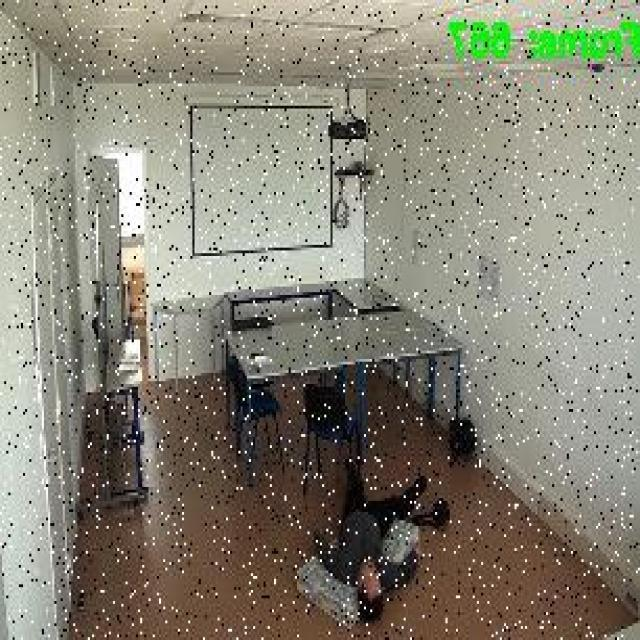fall: (310, 455, 428, 627)
